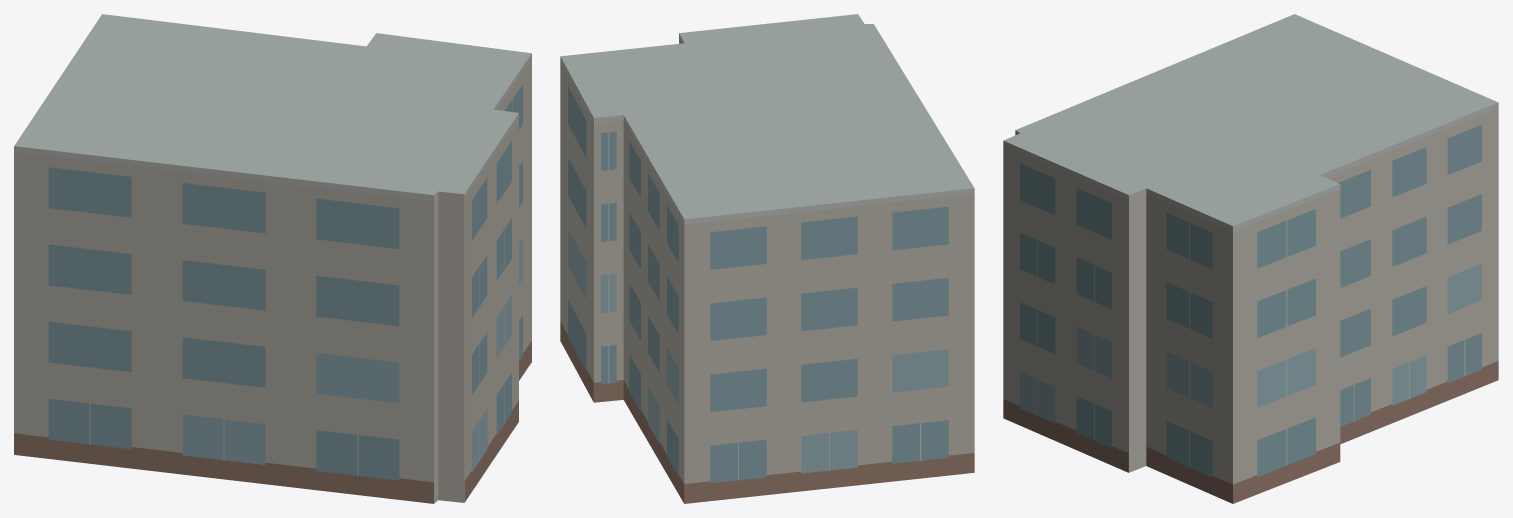
File: survey-upis-32772390.glb
3 renders of one model, left to right at view 1: azimuth 30°, elevation 25°; view 2: azimuth 150°, elevation 25°; view 3: azimuth 270°, elevation 25°, orthographic. The views are drawn at different scales.
Visible parts, largest first — view 1: survey-upis-32772390.tmp; view 2: survey-upis-32772390.tmp; view 3: survey-upis-32772390.tmp.
Boxes of the visible parts, x1,y1,x2,y2 form: survey-upis-32772390.tmp: (14,14,531,503); survey-upis-32772390.tmp: (560,14,974,503); survey-upis-32772390.tmp: (1003,14,1498,503).
Bounding box in the file's own units: 20.66 × 12.6 × 20.37.
